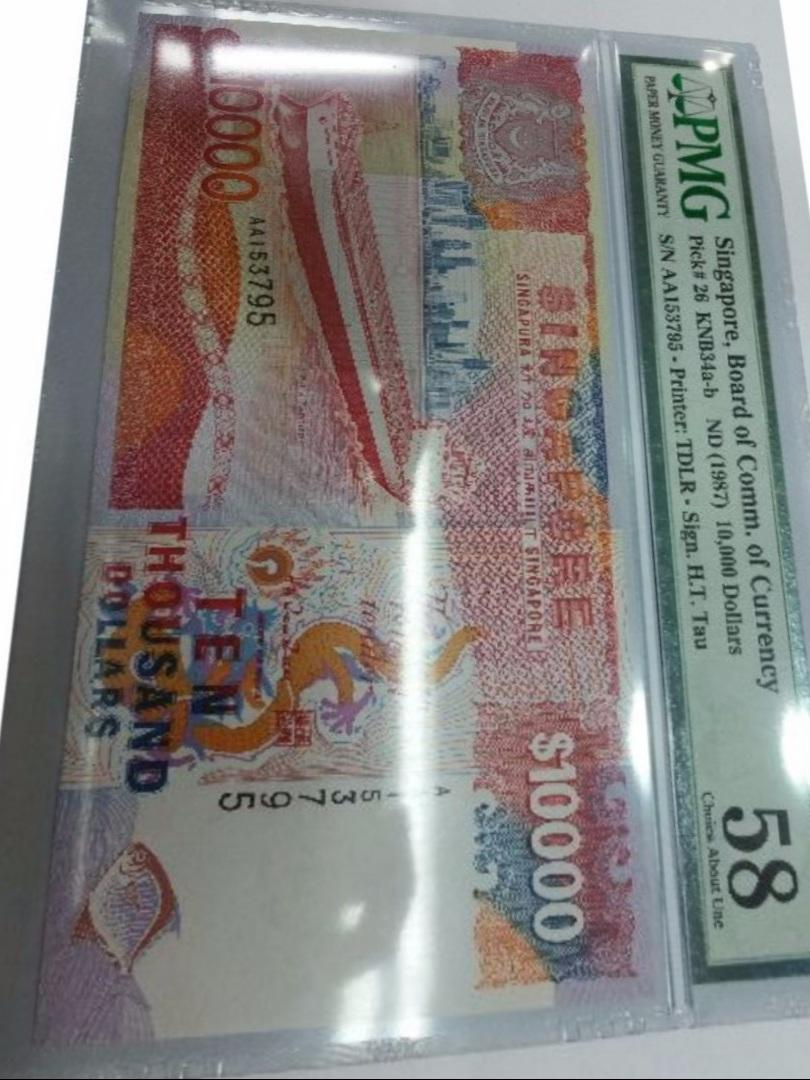10000SingaporeDollar: (68, 60, 630, 975)
